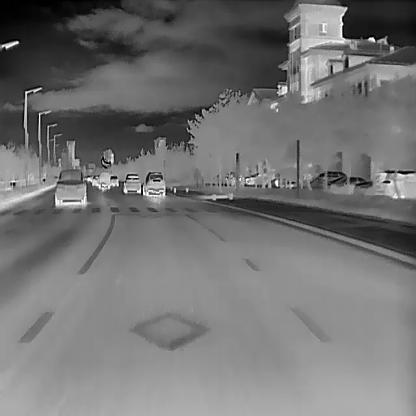car: (54, 167, 86, 205), (376, 169, 415, 198), (316, 169, 346, 189), (142, 170, 165, 196), (326, 174, 372, 187), (122, 172, 140, 192), (244, 170, 267, 184), (98, 171, 109, 188), (109, 173, 118, 185)
